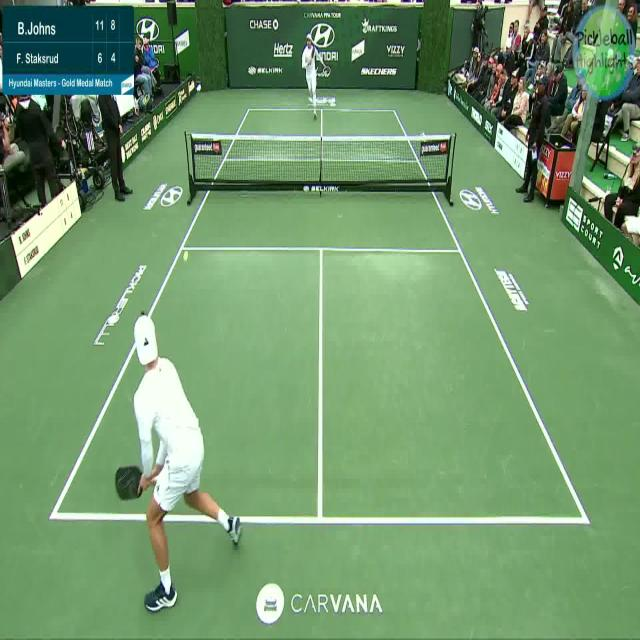Court: (55, 109, 589, 527)
ball: (182, 246, 192, 266)
